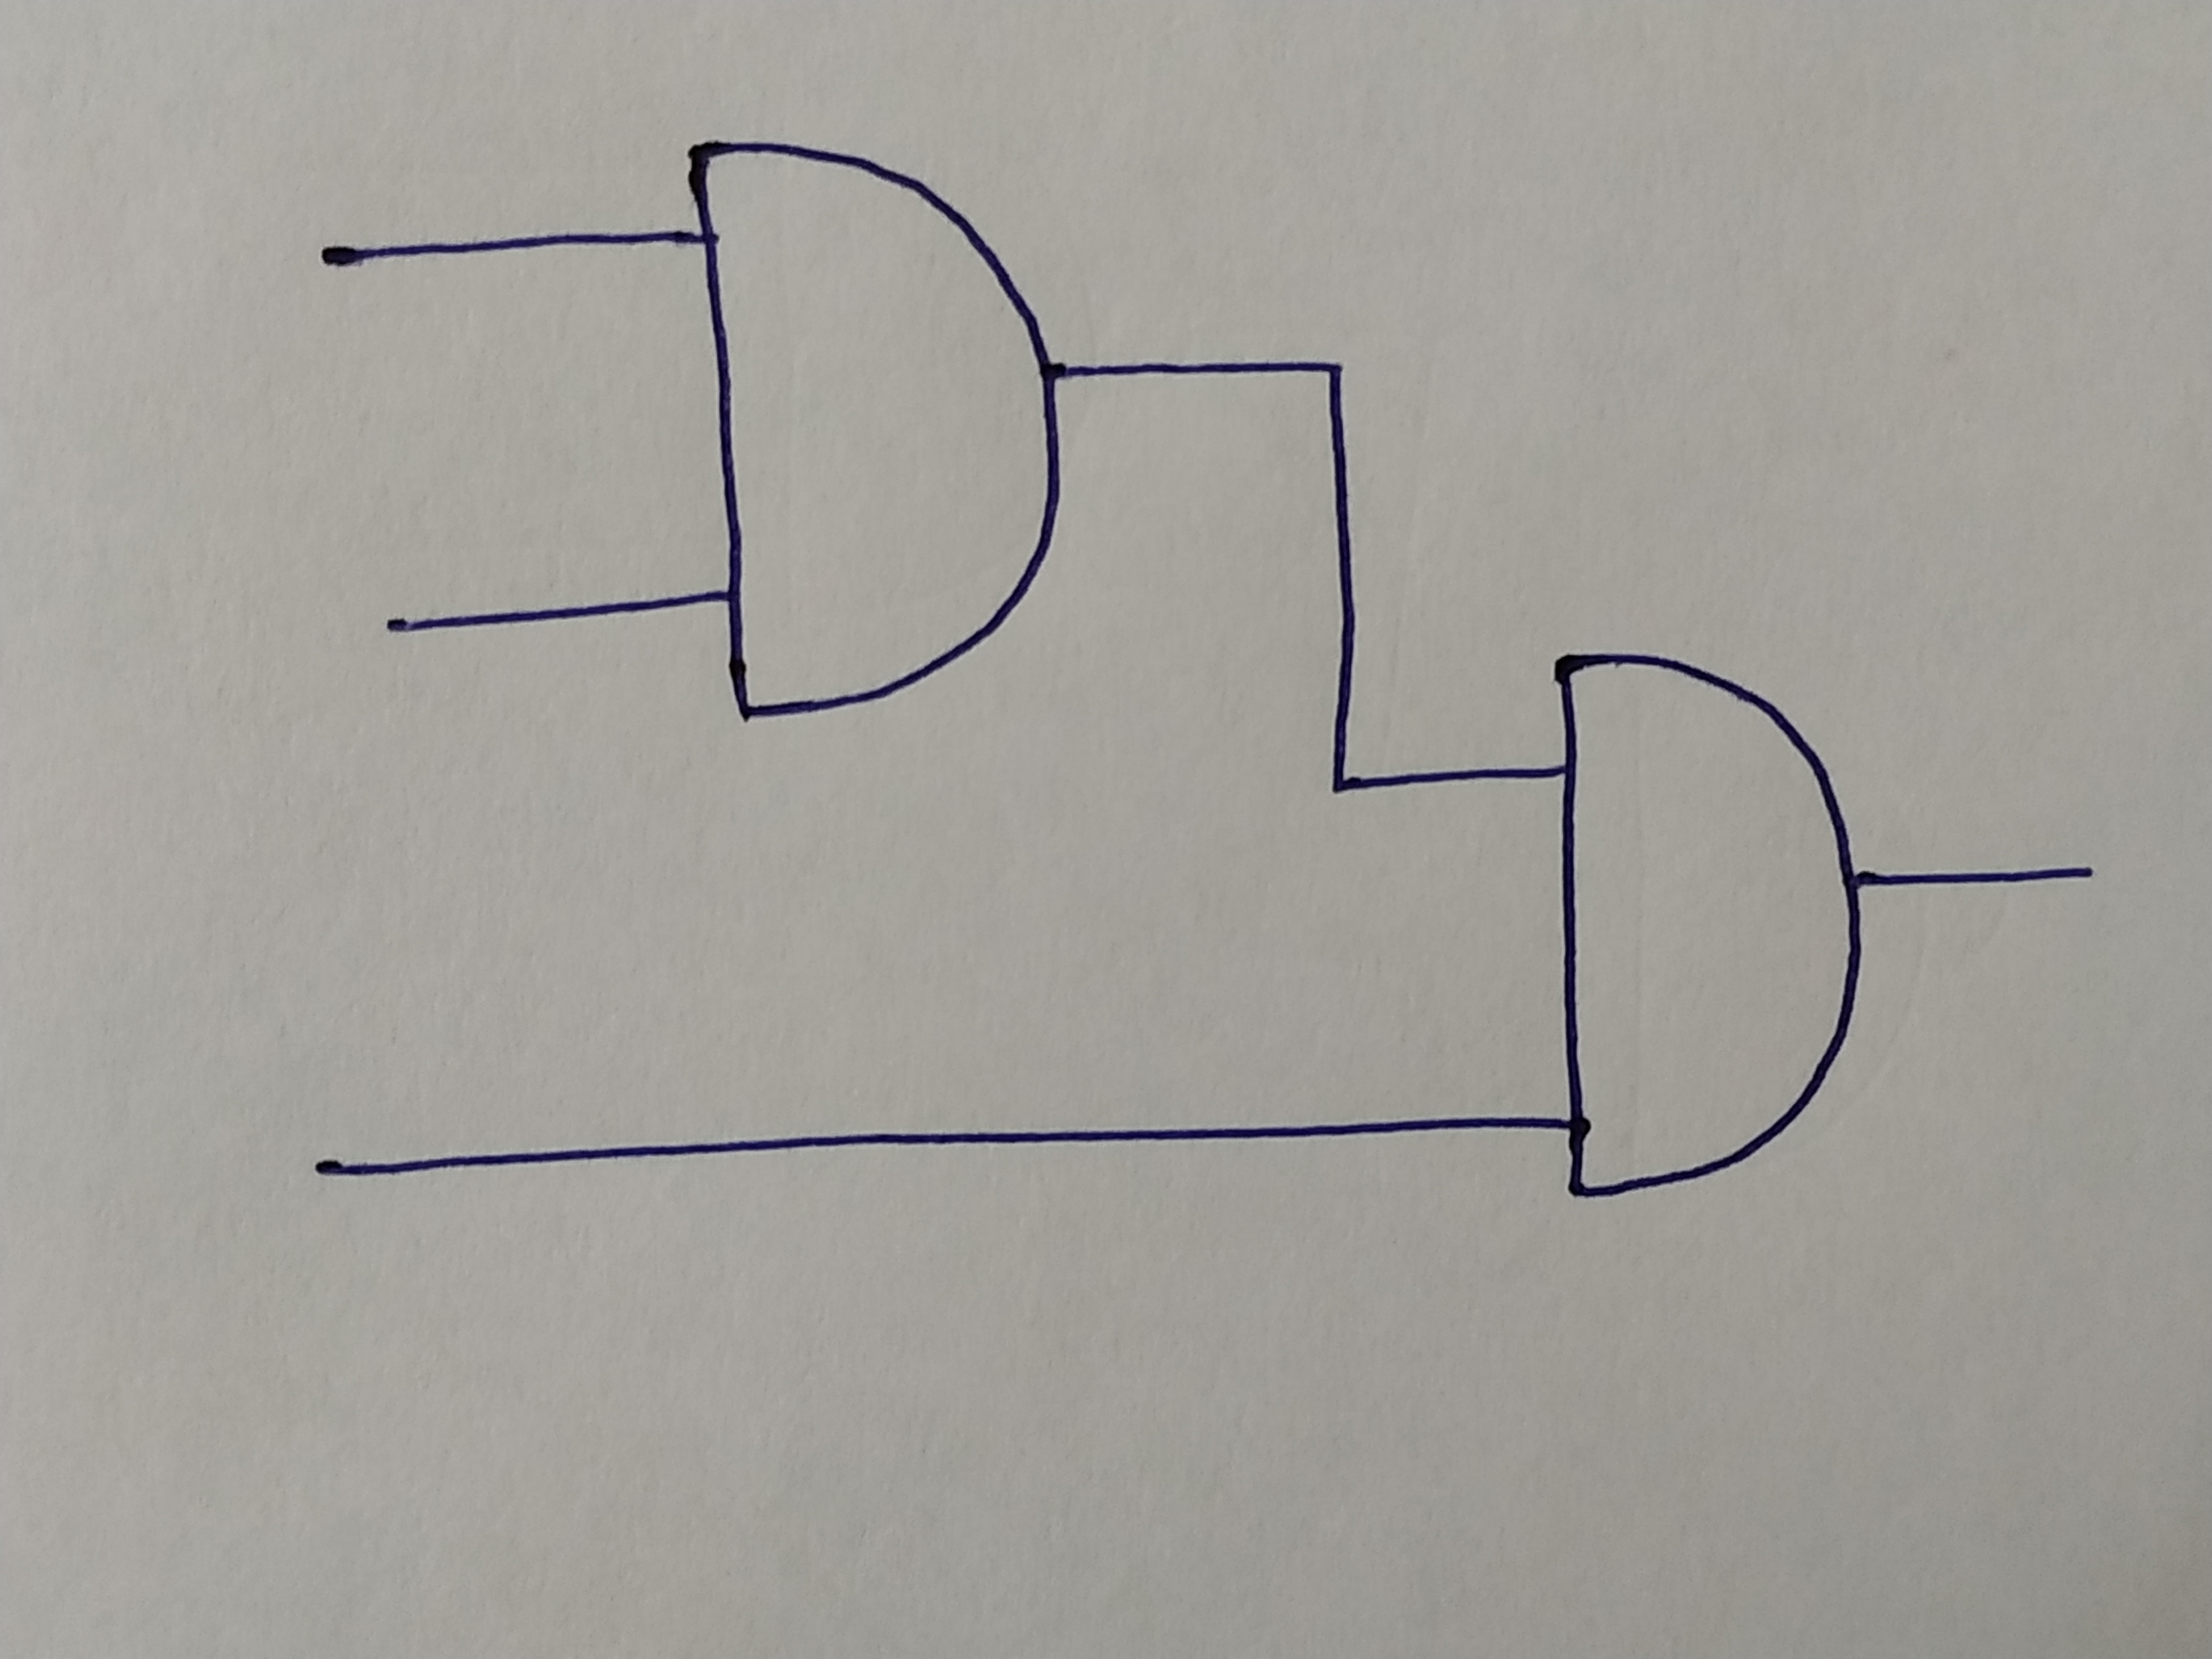and: (686, 143, 1052, 711), (1550, 659, 1857, 1199)
